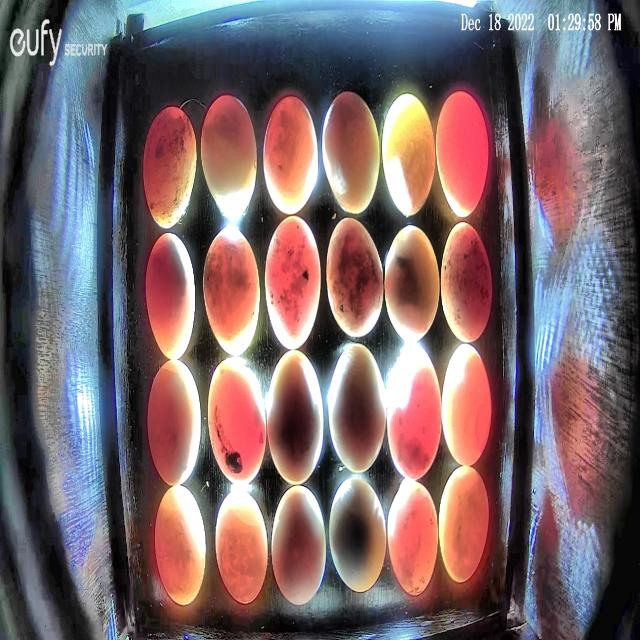DE: (268, 349, 325, 485), (264, 215, 321, 349), (327, 345, 386, 471), (203, 228, 260, 358), (208, 356, 266, 482), (326, 216, 384, 338), (388, 348, 441, 480), (200, 94, 257, 216), (146, 359, 201, 484), (322, 92, 379, 212), (436, 89, 489, 216), (143, 106, 197, 230), (263, 95, 317, 215), (272, 486, 326, 606), (382, 92, 434, 216), (384, 226, 439, 343), (330, 480, 387, 591), (441, 343, 492, 467), (441, 222, 493, 342), (146, 231, 194, 360), (215, 490, 268, 604), (155, 485, 205, 605), (439, 465, 489, 583), (388, 481, 438, 597)
